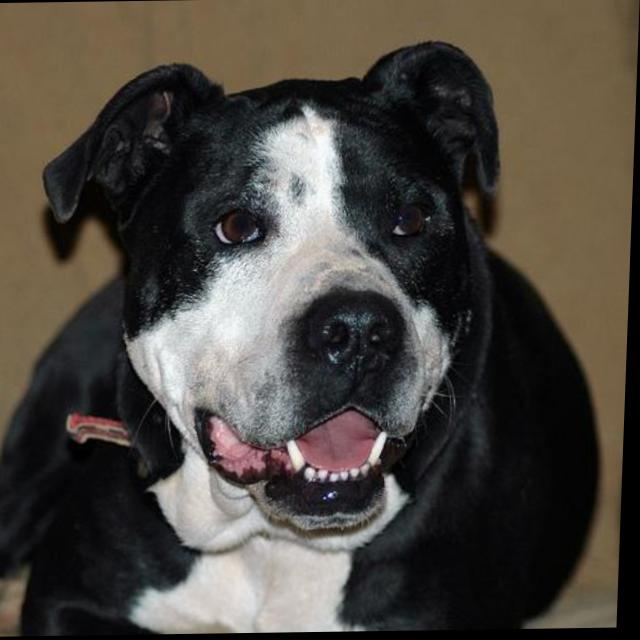amstaff: (1, 39, 620, 638)
